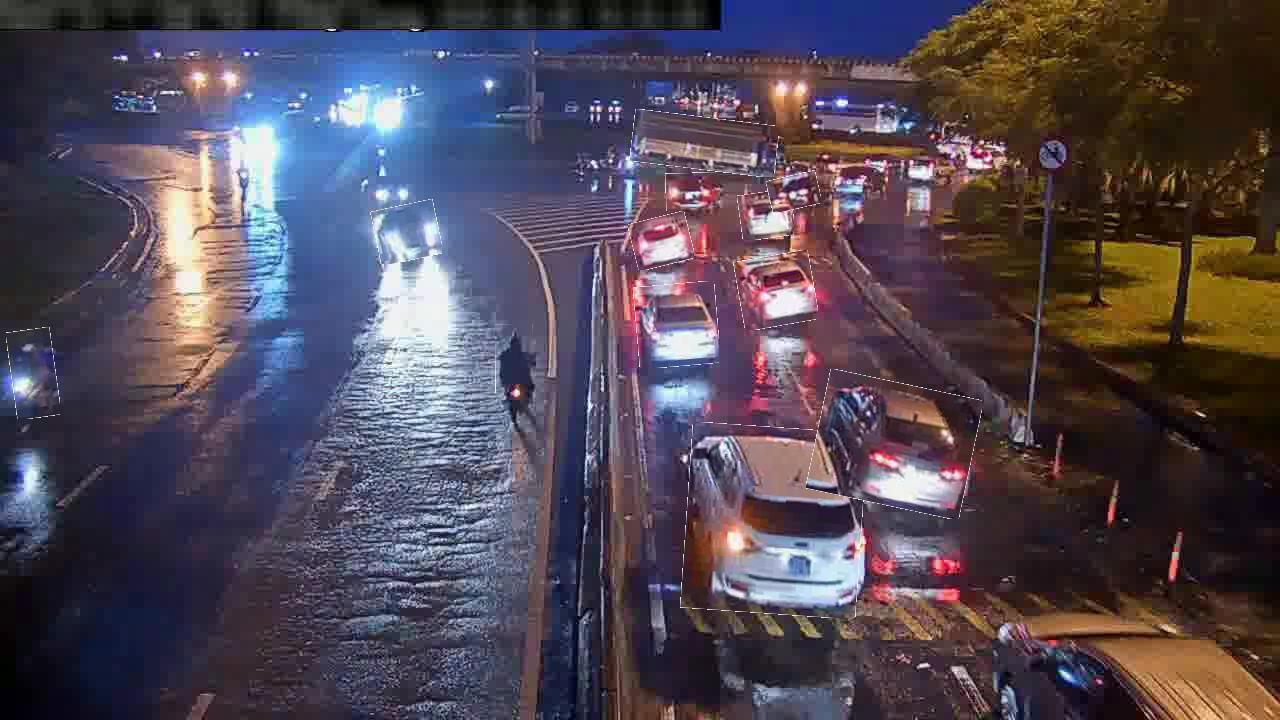car: (683, 425, 864, 617), (812, 377, 978, 513), (635, 282, 719, 368), (736, 253, 817, 329), (373, 202, 441, 263), (631, 214, 693, 268), (739, 190, 794, 240), (768, 173, 821, 211), (666, 173, 717, 212)
container: (631, 114, 778, 174)
motorbike: (9, 329, 59, 419), (496, 324, 534, 406)
